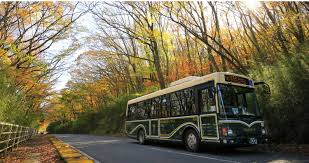bus: (126, 71, 270, 152)
